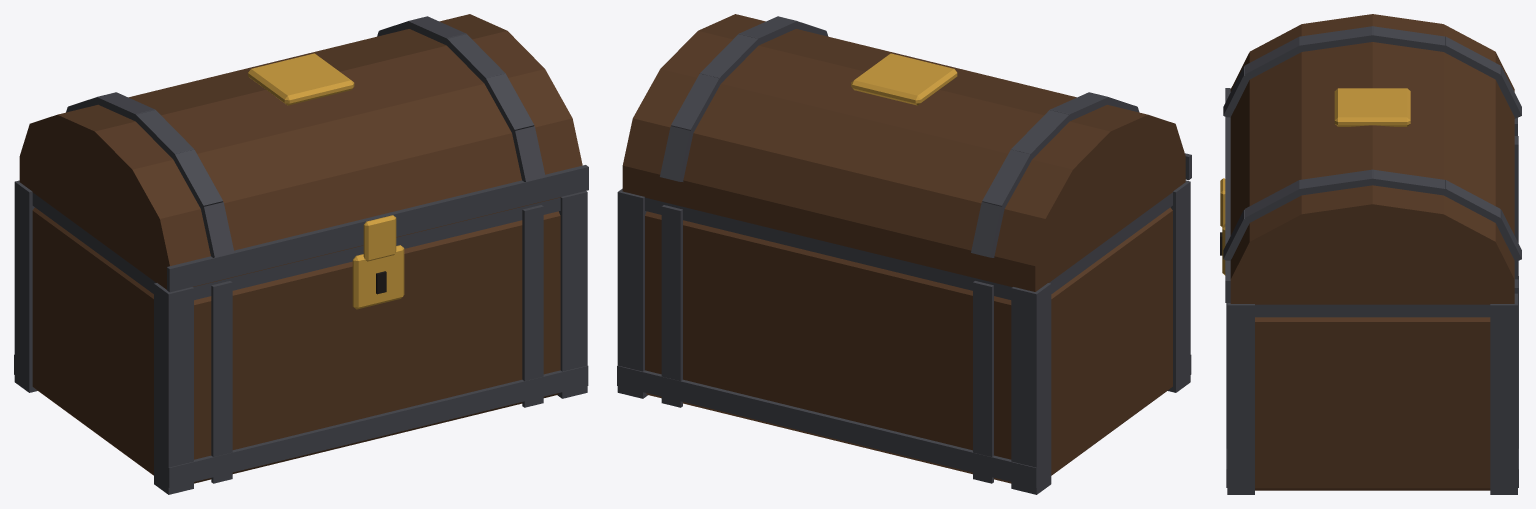
File: town_stash.glb
3 renders of one model, left to right at view 1: azimuth 30°, elevation 25°; view 2: azimuth 150°, elevation 25°; view 3: azimuth 270°, elevation 25°, orthographic. The views are drawn at different scales.
Visible parts, largest first — view 1: town_stash, Lid; view 2: town_stash, Lid; view 3: Lid, town_stash.
Part boxes in pixels (x1,y1,x2,y2): town_stash: (14,180,588,494); Lid: (19,14,588,292); town_stash: (617,180,1191,494); Lid: (622,14,1191,291); Lid: (1220,14,1521,304); town_stash: (1220,117,1518,494).
Bounding box in the file's own units: 1.32 × 0.9435 × 0.8722.
